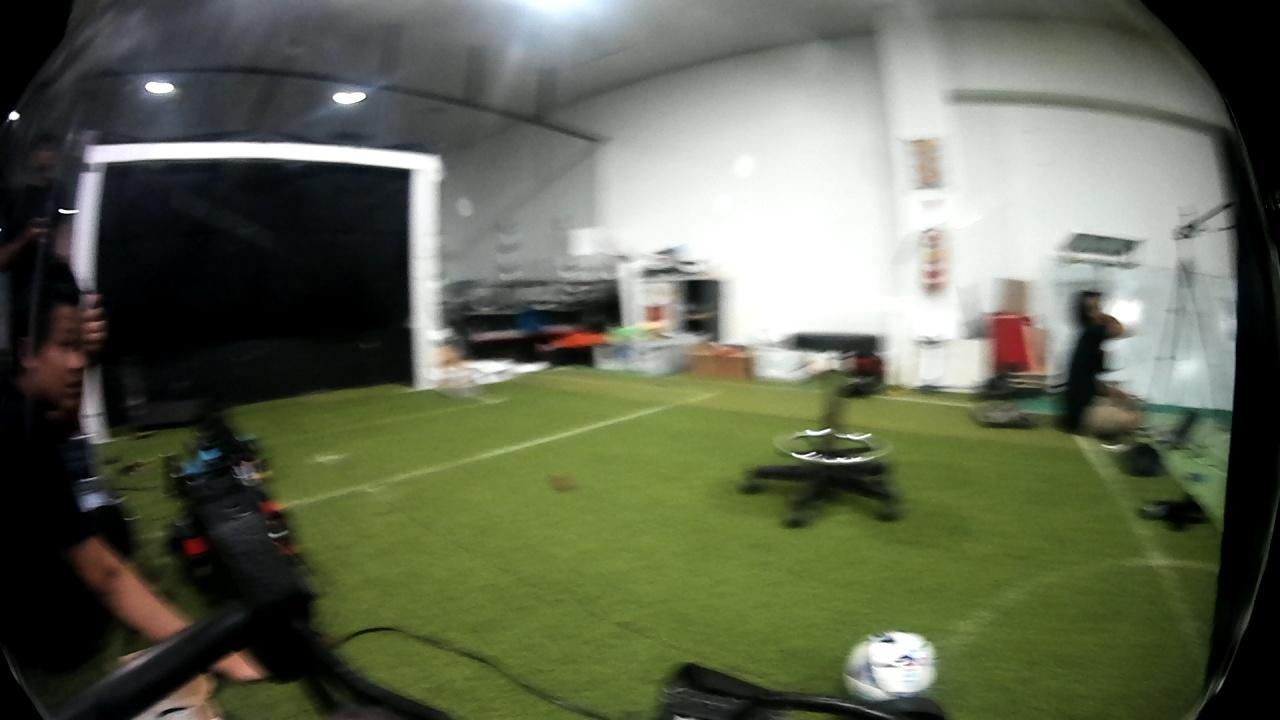ball: (840, 625, 945, 704)
